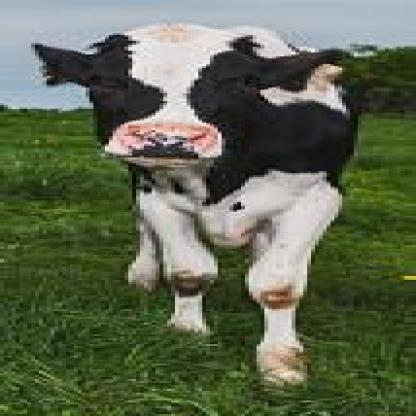cow: (31, 21, 362, 400)
